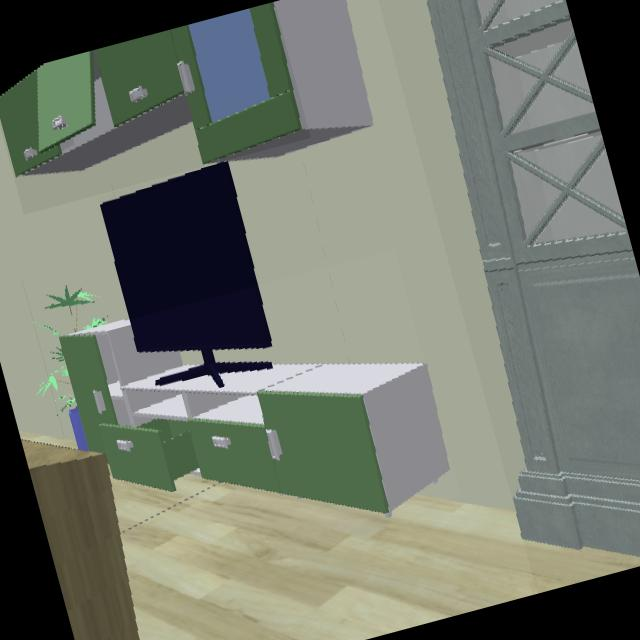bookshelf: (426, 0, 640, 557)
cabinet: (60, 321, 451, 516), (0, 1, 302, 178)
monitor: (100, 163, 271, 365)
